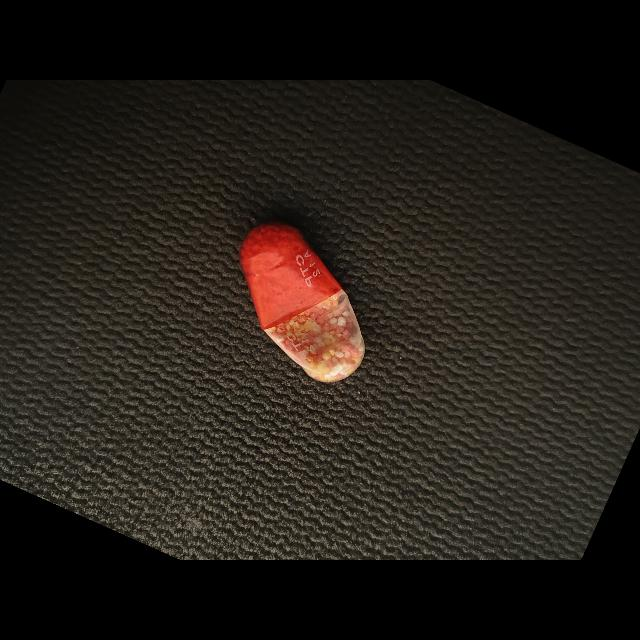Defective Capsule: (239, 223, 365, 382)
